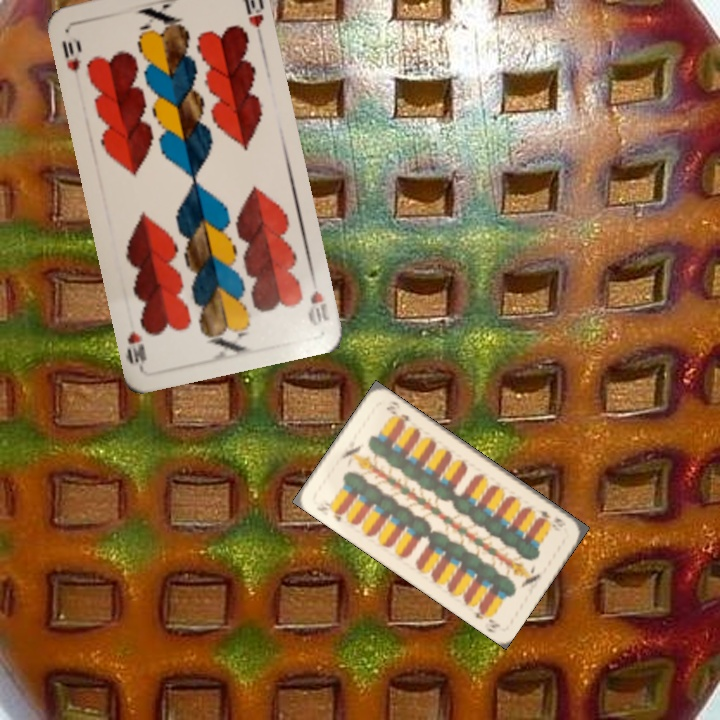E10: (312, 500, 346, 525), (531, 505, 565, 525)
H10: (304, 271, 332, 328), (57, 36, 83, 74)
